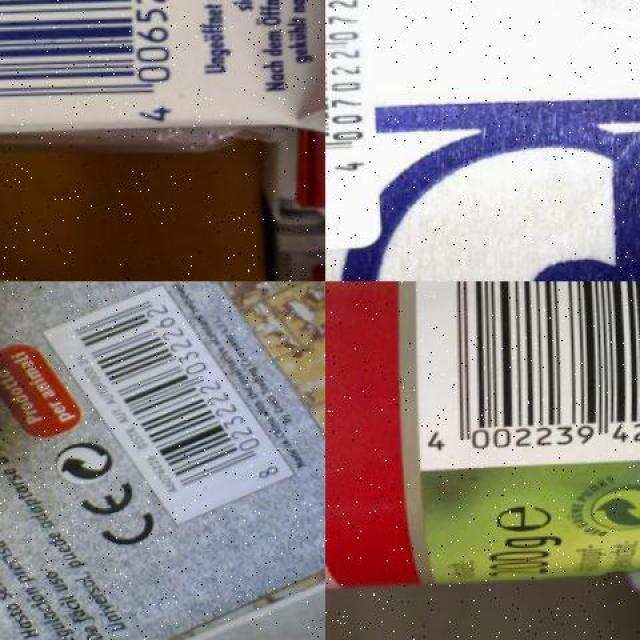Barcode: (34, 282, 294, 530), (412, 282, 640, 469), (0, 0, 178, 129), (325, 0, 366, 189)
